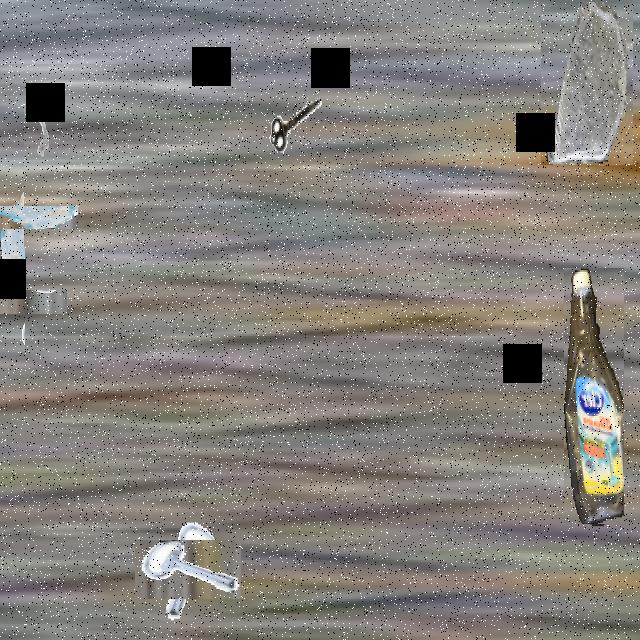glass: (541, 2, 633, 165), (0, 178, 51, 255)
metal: (146, 527, 230, 611), (267, 74, 325, 178), (0, 268, 46, 335), (24, 92, 62, 160)
plastic: (564, 268, 624, 524)
